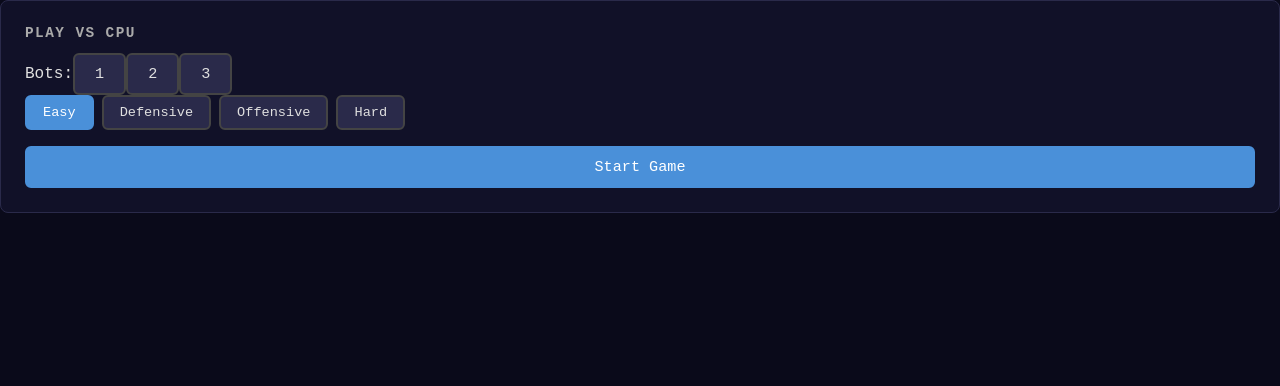
CpuPlayButton › hides Bot 3 row when switching from 3 to 2 bots
The image size is (1280, 386).
Click the button "3" at (206, 74), box [179, 53, 232, 95]
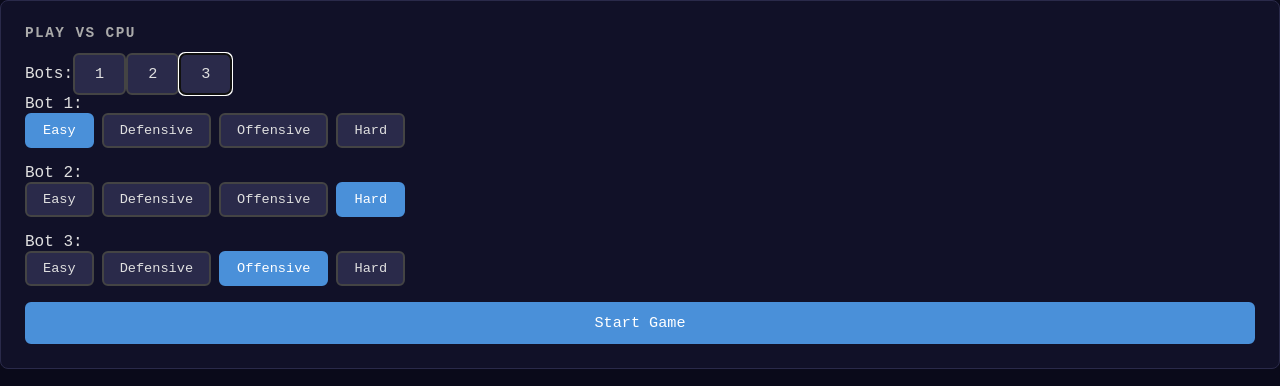
Expected: the text "Bot 3:" is shown, [25, 233, 83, 251]
Click the button "2" at (153, 74), box [126, 53, 179, 95]
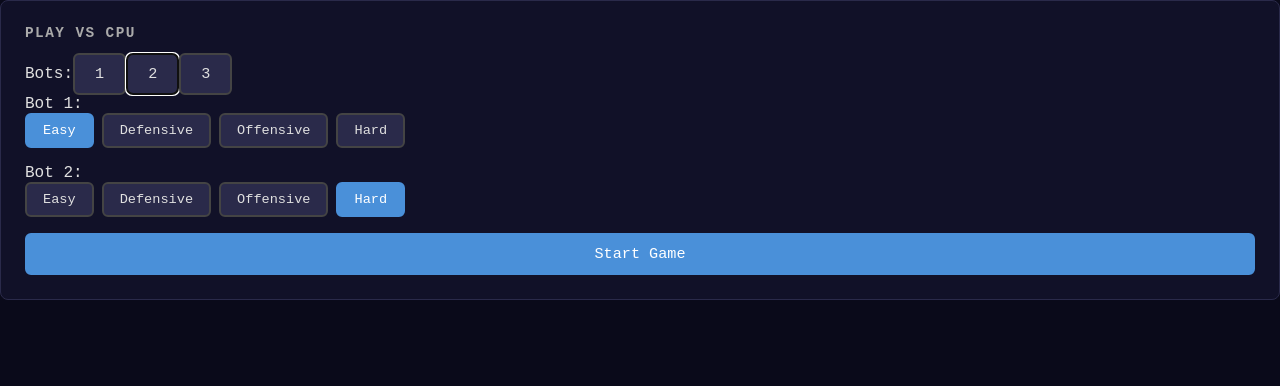
Expected: the text "Bot 3:" is gone
